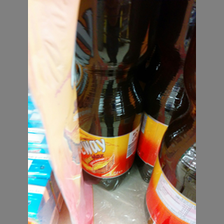soda: (74, 1, 151, 192), (143, 22, 197, 223)
